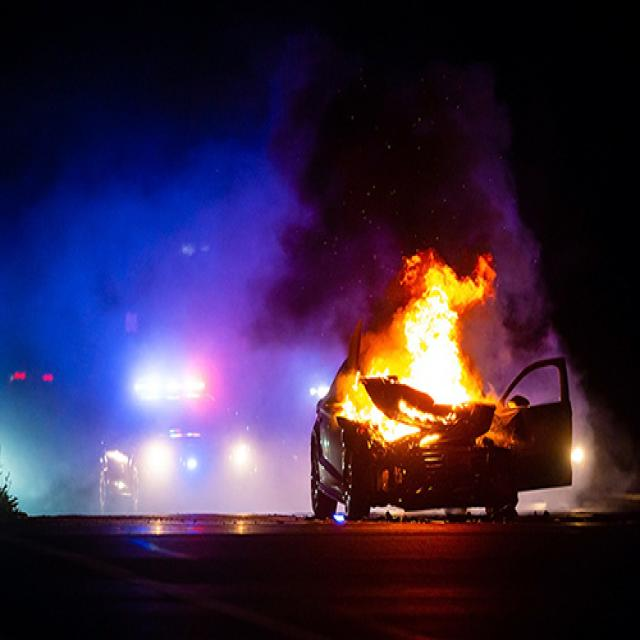fire: (420, 355, 519, 448), (359, 314, 457, 391), (398, 249, 495, 323), (326, 370, 420, 446)
